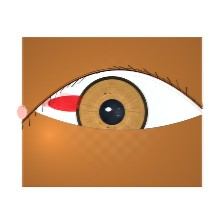hemorrhage_spot: (38, 75, 109, 132)
